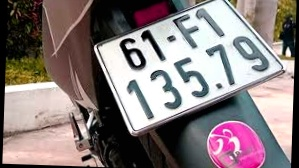Bien-so: (95, 0, 290, 134)
